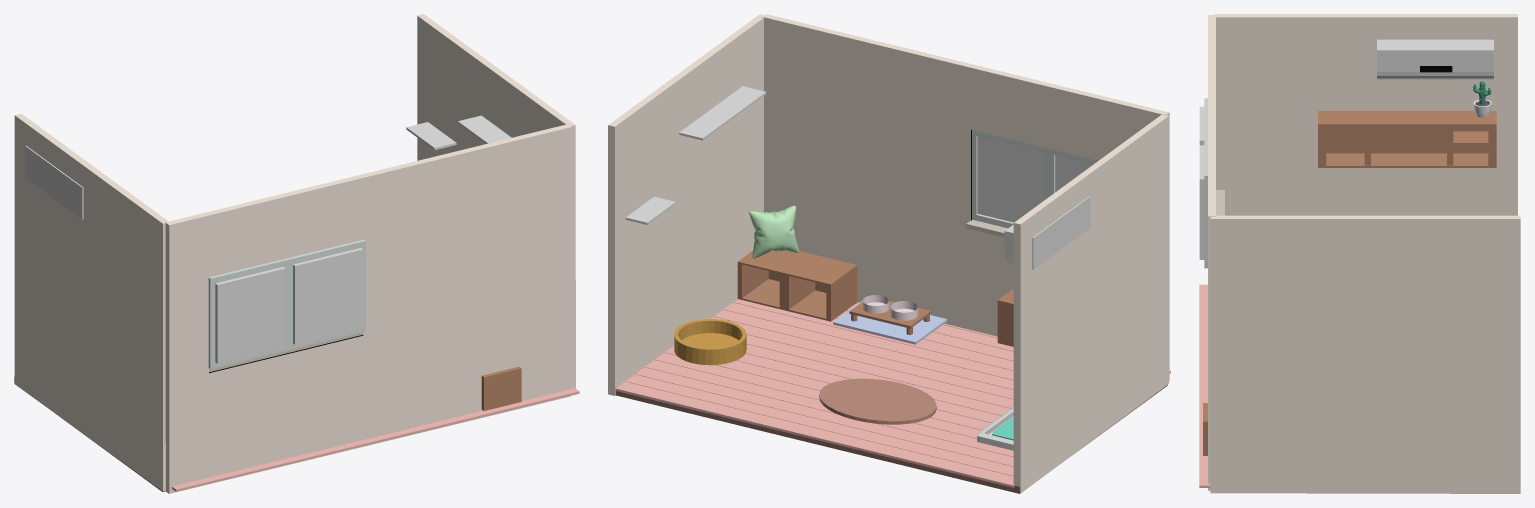
The model's file is 狗主畫面.fbx.
3 views of the same model, side by side, from view 1: azimuth 30°, elevation 25°; view 2: azimuth 150°, elevation 25°; view 3: azimuth 270°, elevation 25° (orthographic). The views are drawn at different scales.
Parts seen in each view (by area): view 1: 牆壁, 牆壁右, 牆壁左, 立方體.027, 立方體.025, 立方體.024, 冷氣, 立方體.026, 立方體.003, 櫃子, 吃飯2墊子.002, 吃飯2墊子.001; view 2: 牆壁, 牆壁右, 牆壁左, 櫃子, 牆壁下, 立方體.025, 立方體.015, 地毯, 立方體.001, 立方體.002, 立方體.019, 圓柱體.006 (+21 smaller); view 3: 牆壁左, 牆壁右, 牆壁櫃, 冷氣, 牆壁, 立方體.024, 立方體.025, 立方體.029, 立方體.003.
Part boxes in pixels (x1,y1,x2,y2): 牆壁: (165,124,572,493); 牆壁右: (14,113,168,491); 牆壁左: (417,14,575,388); 立方體.027: (215,267,285,363); 立方體.025: (293,248,363,344); 立方體.024: (172,387,579,491); 冷氣: (25,145,83,219); 立方體.026: (208,258,288,368); 立方體.003: (287,239,365,350); 櫃子: (481,366,521,410); 吃飯2墊子.002: (458,115,511,143); 吃飯2墊子.001: (406,122,456,149); 牆壁: (762,14,1169,381); 牆壁右: (1013,114,1168,493); 牆壁左: (608,14,763,395); 櫃子: (737,250,857,321); 牆壁下: (615,302,1167,493); 立方體.025: (977,136,1044,222); 立方體.015: (615,381,1014,487); 地毯: (819,378,936,424); 立方體.001: (625,374,1013,475); 立方體.002: (635,367,1013,466); 立方體.019: (714,309,1013,389); 圓柱體.006: (674,319,746,365); 牆壁左: (1210,215,1520,493); 牆壁右: (1214,14,1517,215); 牆壁櫃: (1318,111,1496,167); 冷氣: (1377,39,1493,79); 牆壁: (1208,15,1215,490); 立方體.024: (1199,284,1210,487); 立方體.025: (1199,145,1204,259); 立方體.029: (1448,131,1488,148); 立方體.003: (1204,137,1207,268).
Size of the model in its own units: 3942 by 2463 by 2608.
